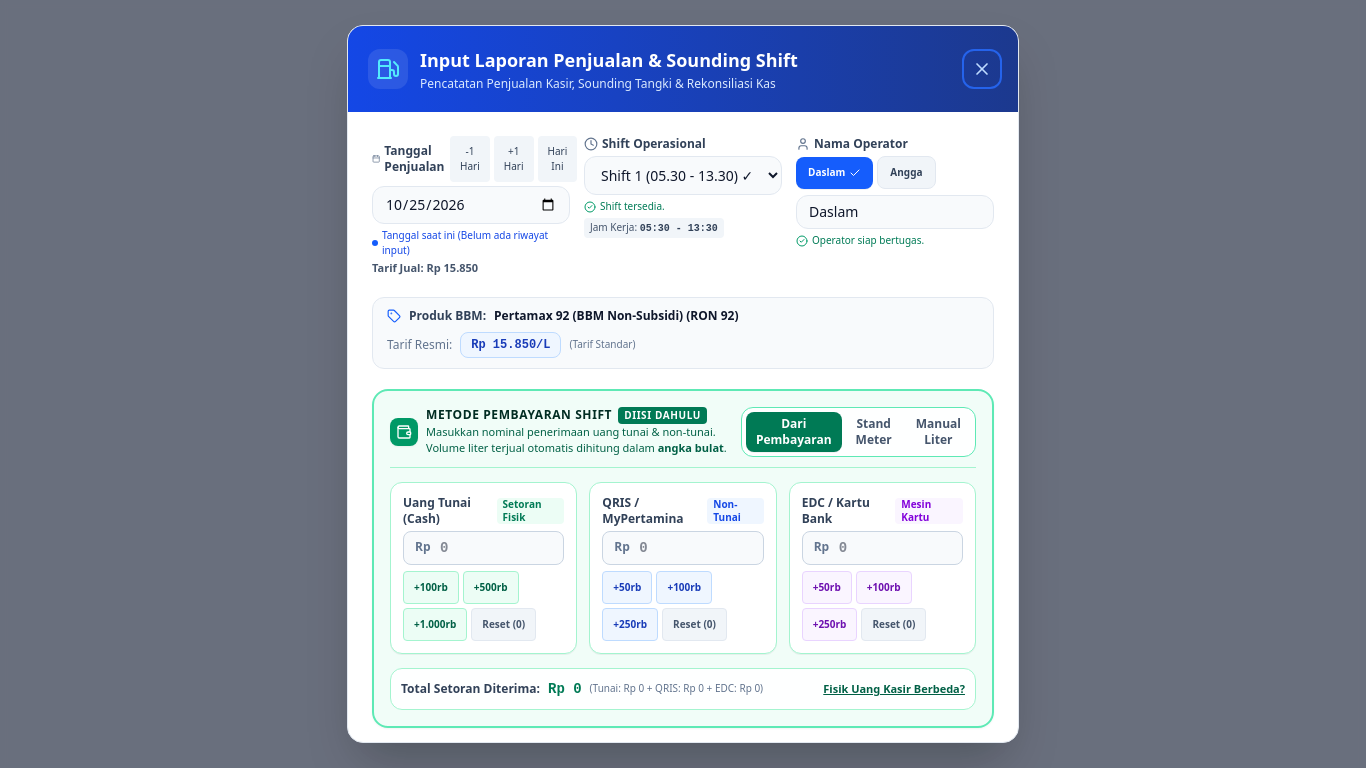
Test: SalesEntryModal › tombol Simpan AKTIF kalau sudah diisi nominal & tidak ada shift yang bentrok
This screenshot has width=1366, height=768.
Type "500000" into the number field with placeholder "0" below "Uang Tunai (Cash)" at (484, 548), box x1=403 y1=531 x2=564 y2=565
(page scrolled)
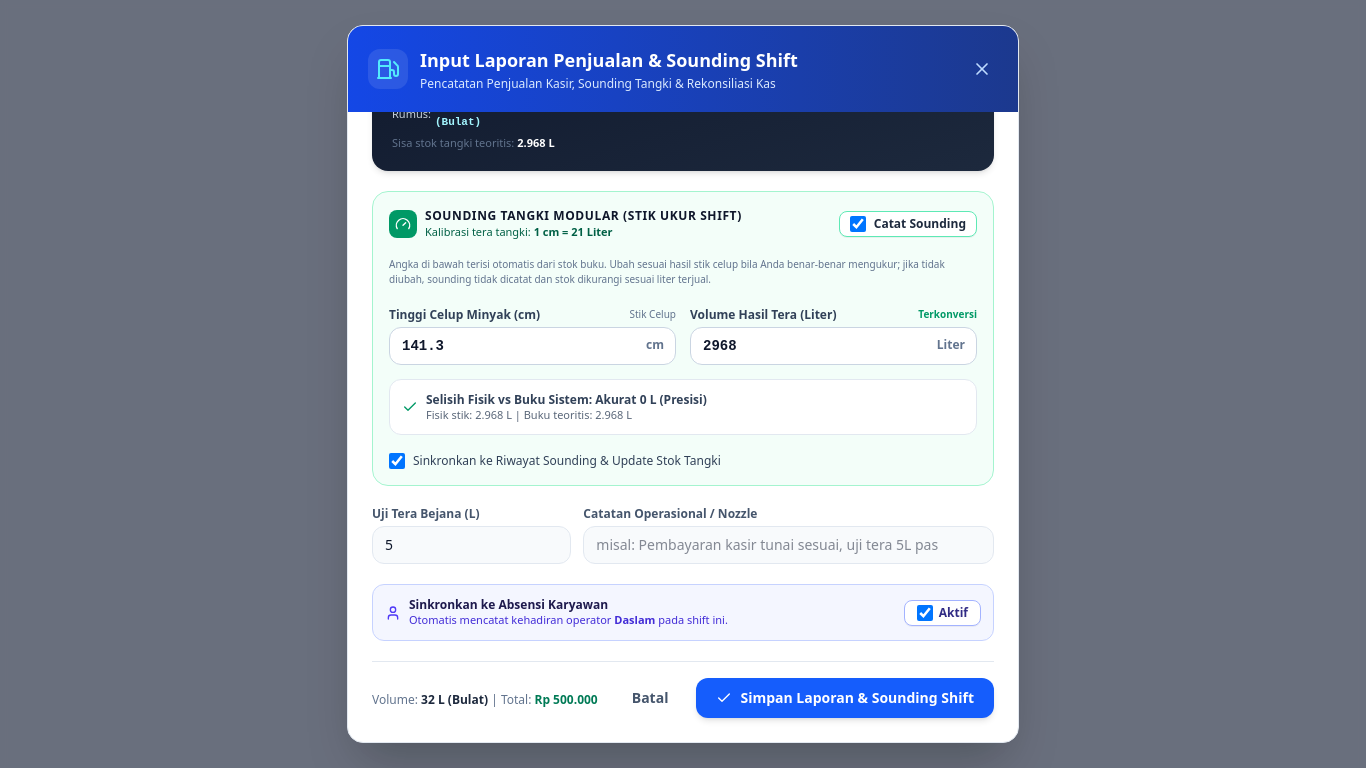
Expected: the button with id "submit-sale-record-btn" is enabled, x1=696 y1=678 x2=994 y2=718
